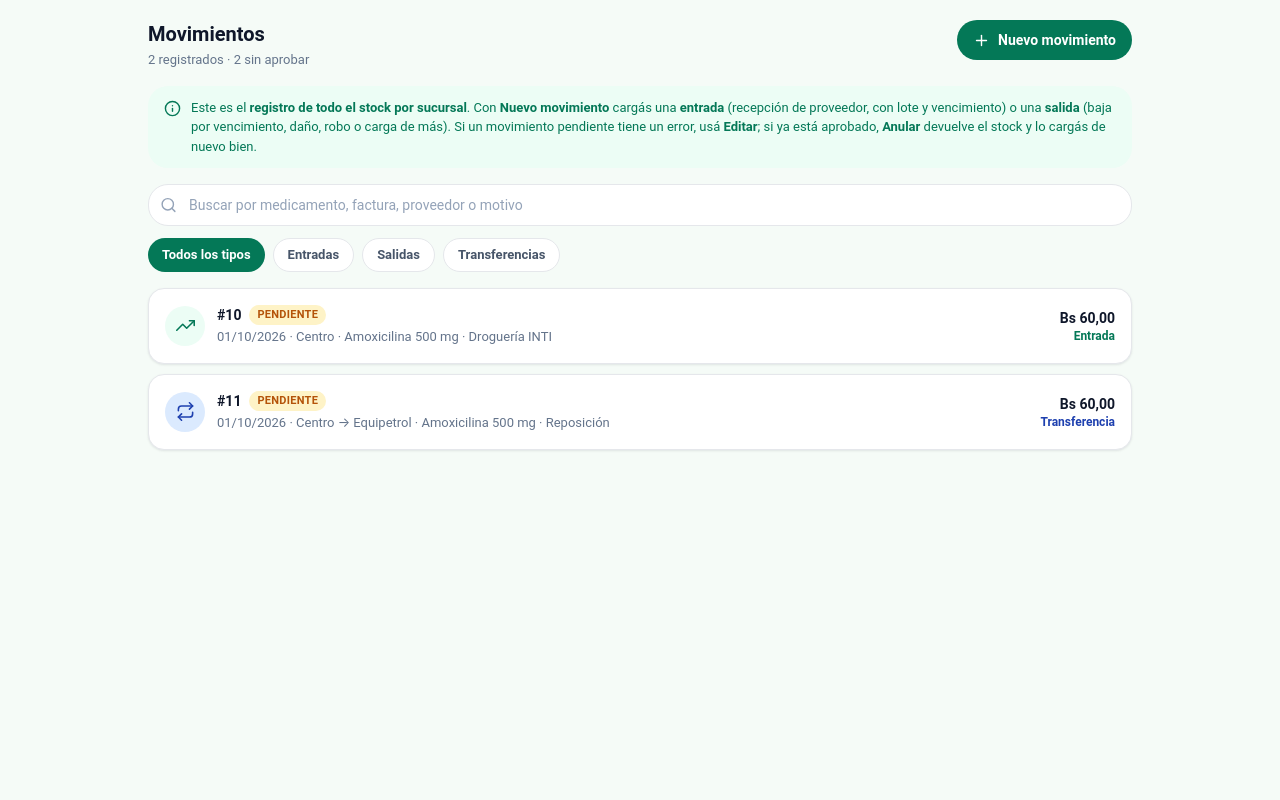
Scenario: Aprobar una transferencia pide su permiso (16-oct) › sin él no hay botón, y el aviso dice quién la aprueba
Click the text "Centro → Equipetrol". click: (413, 422)
box: top-left (217, 415), bottom-right (610, 430)
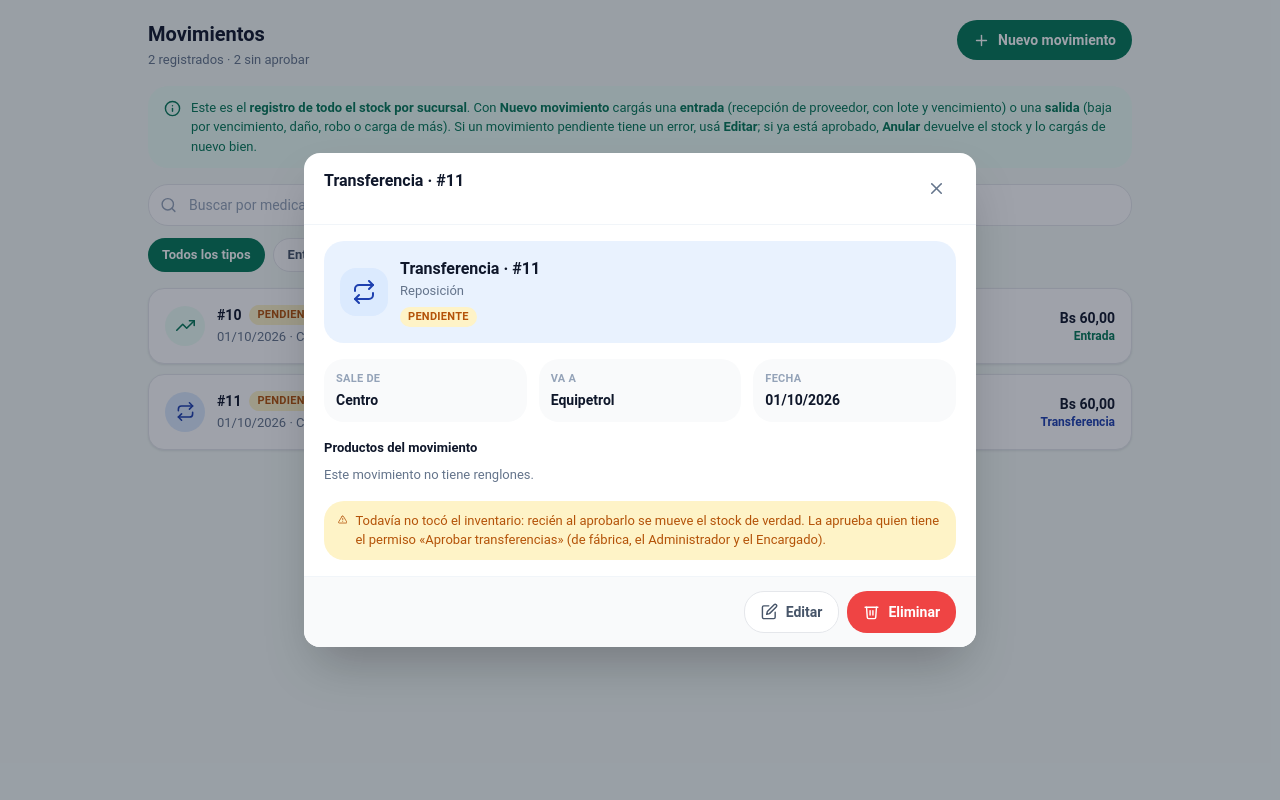
Expected: the text "Sale de" is shown, top-left (336, 372), bottom-right (380, 385)
Expected: the text "permiso «Aprobar transferencias»" is shown, top-left (355, 513), bottom-right (939, 547)
